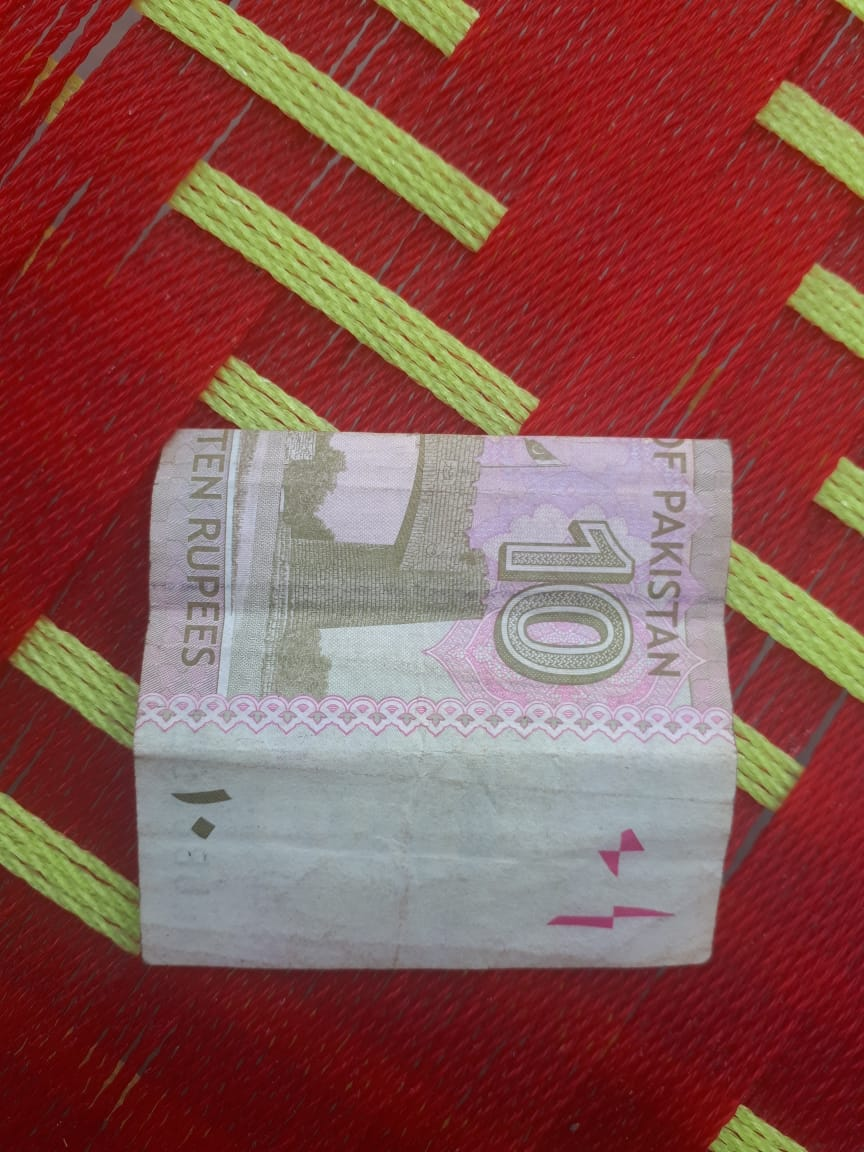10 rupee: (133, 424, 743, 971)
